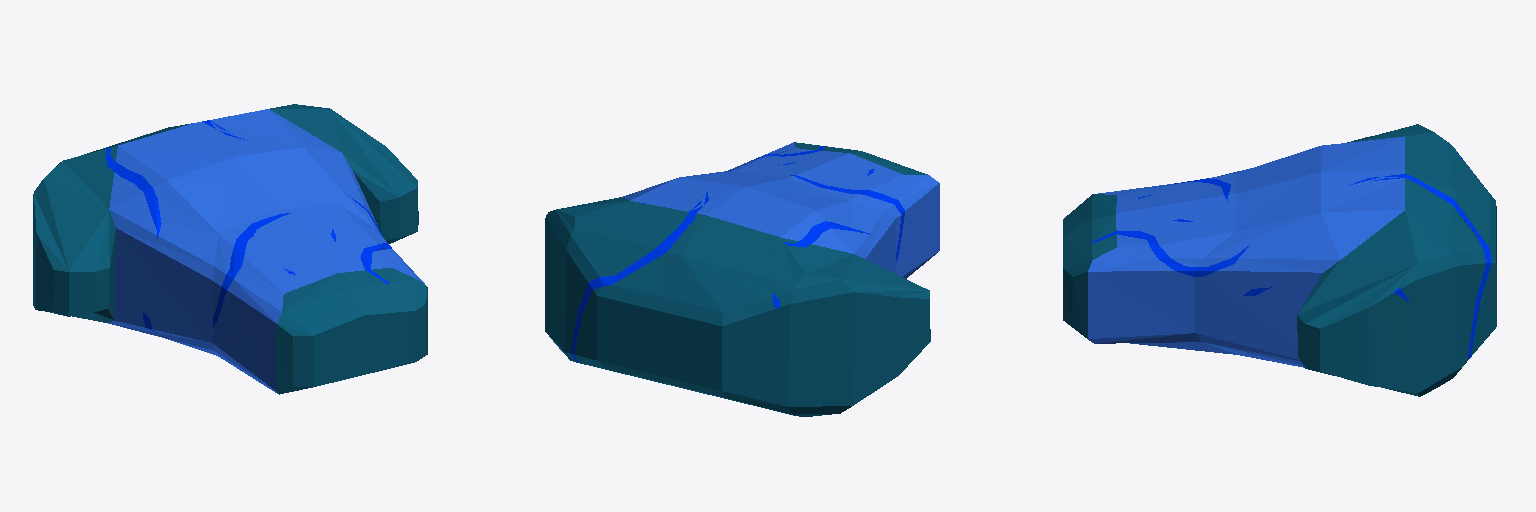
The model's file is WaterArmour.obj.
The picture shows the model from 3 angles: view 1: azimuth 30°, elevation 25°; view 2: azimuth 150°, elevation 25°; view 3: azimuth 270°, elevation 25°; orthographic projection.
Visible parts, largest first — view 1: WaterArmour; view 2: WaterArmour; view 3: WaterArmour.
Boxes of the visible parts, <box> form: WaterArmour: <box>33,104,427,394</box>; WaterArmour: <box>545,142,939,416</box>; WaterArmour: <box>1063,124,1496,396</box>.
Size of the model in its own units: 1.01 by 0.4581 by 1.04.